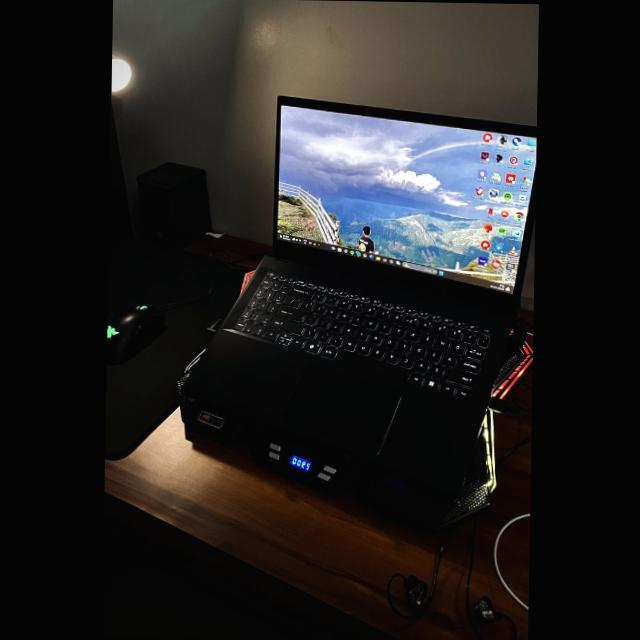laptop: (186, 96, 536, 508)
